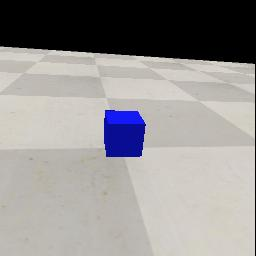box: (104, 109, 146, 157)
